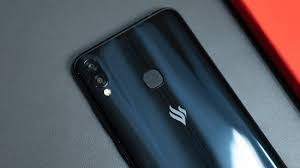vsmart: (64, 5, 286, 168)
